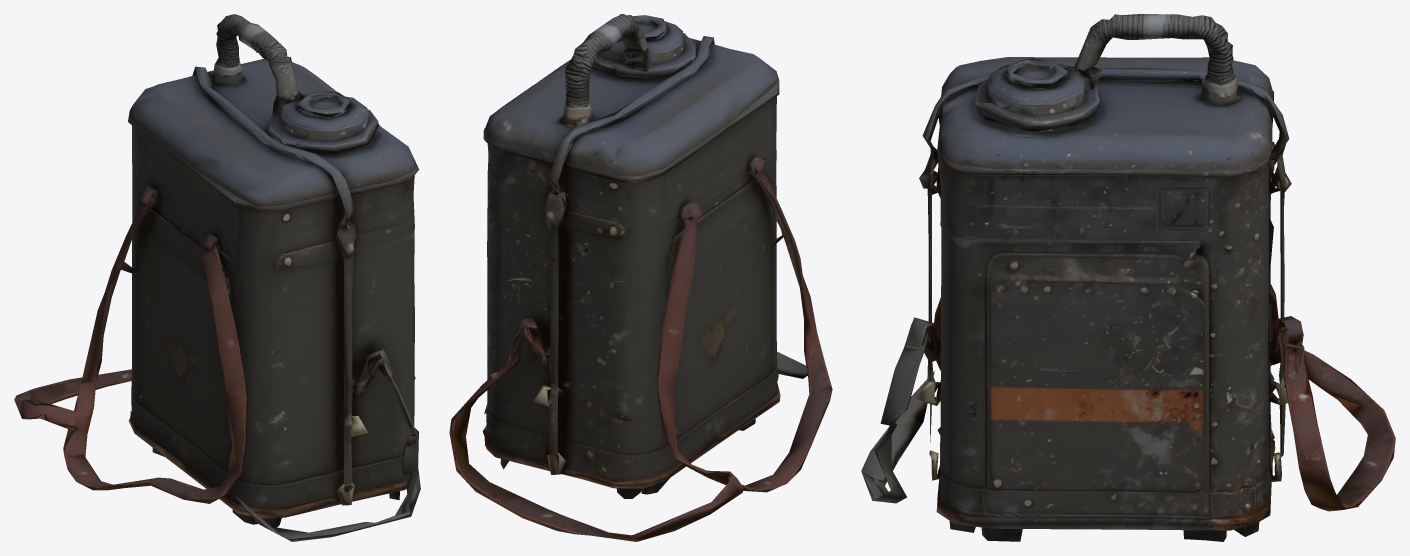
File: gear_vacuum.glb
The picture shows the model from 3 angles, left to right: view 1: azimuth 30°, elevation 25°; view 2: azimuth 150°, elevation 25°; view 3: azimuth 270°, elevation 25°; orthographic projection. The views are drawn at different scales.
Parts seen in each view (by area): view 1: tripo_node_f1538e30-9e26-4265-8978-7e7a5d1ee01f; view 2: tripo_node_f1538e30-9e26-4265-8978-7e7a5d1ee01f; view 3: tripo_node_f1538e30-9e26-4265-8978-7e7a5d1ee01f.
Boxes of the visible parts, x1,y1,x2,y2 form: tripo_node_f1538e30-9e26-4265-8978-7e7a5d1ee01f: (14, 14, 420, 541); tripo_node_f1538e30-9e26-4265-8978-7e7a5d1ee01f: (449, 14, 832, 541); tripo_node_f1538e30-9e26-4265-8978-7e7a5d1ee01f: (861, 14, 1395, 541).
Bounding box in the file's own units: 0.677 × 1 × 0.9895.
1 material, 1 textured.
